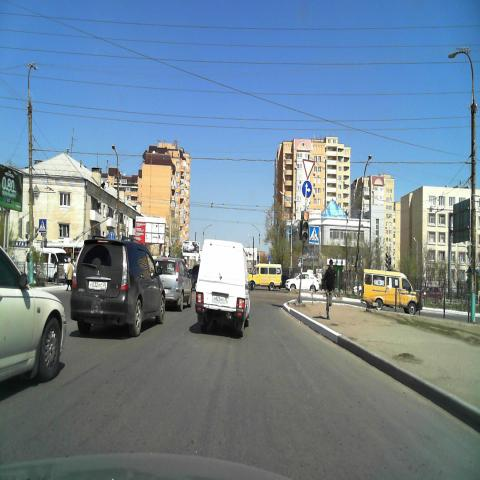2_4: (302, 159, 316, 180)
